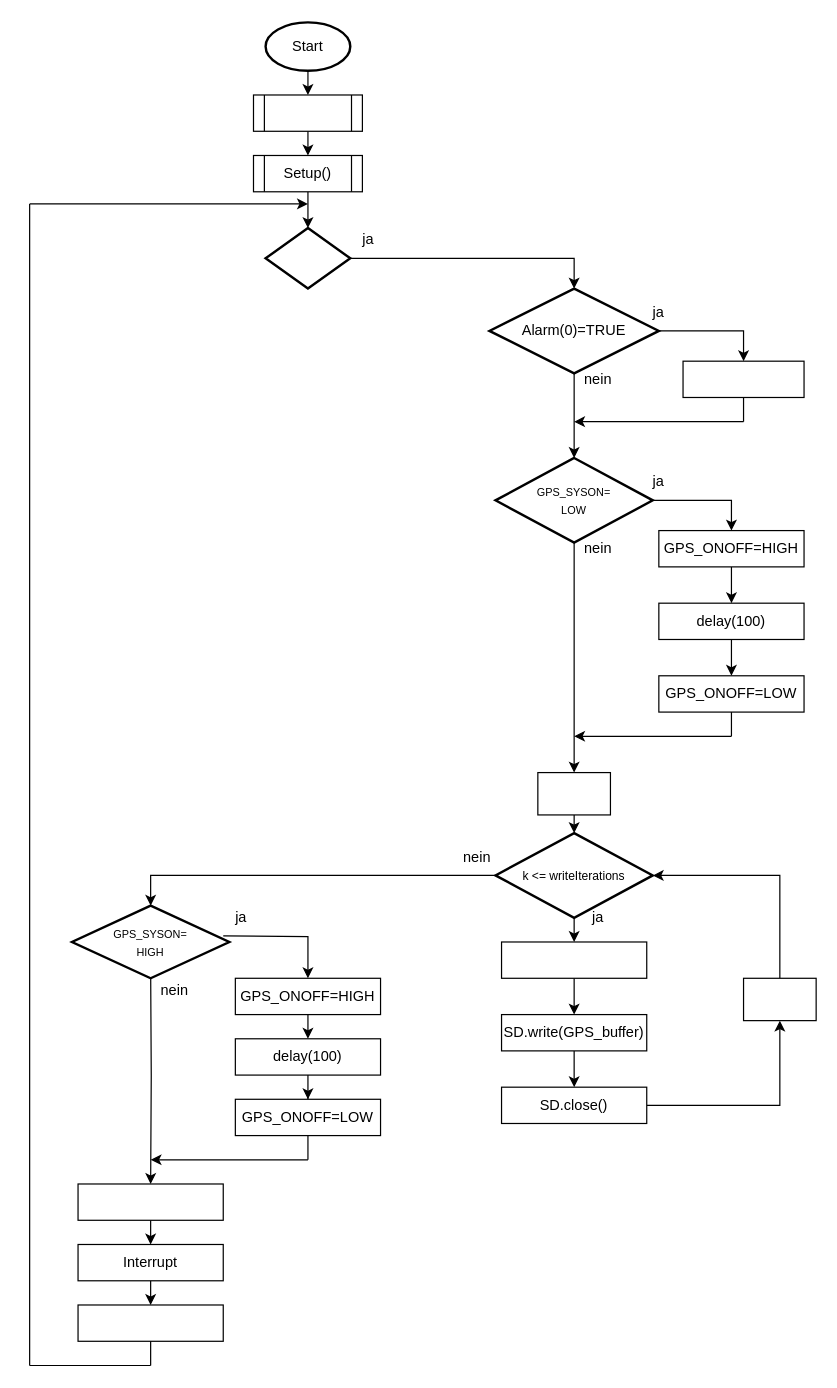
The diagram is 837 pixels wide and 1388 high, and some of its shapes have lost their labels. The centre of each missing label's shape, as x and y in pixels:
"Alarm(0)+=20" belongs at point 743,378.
"Deep_Sleep_Begin()" belongs at point 150,1201.
"Init" belongs at point 307,112.
"k++" belongs at point 779,999.
"k=1" belongs at point 573,793.
"SD.openFile()" belongs at point 573,959.
"true" belongs at point 307,257.
"WakeUp()" belongs at point 150,1322.
